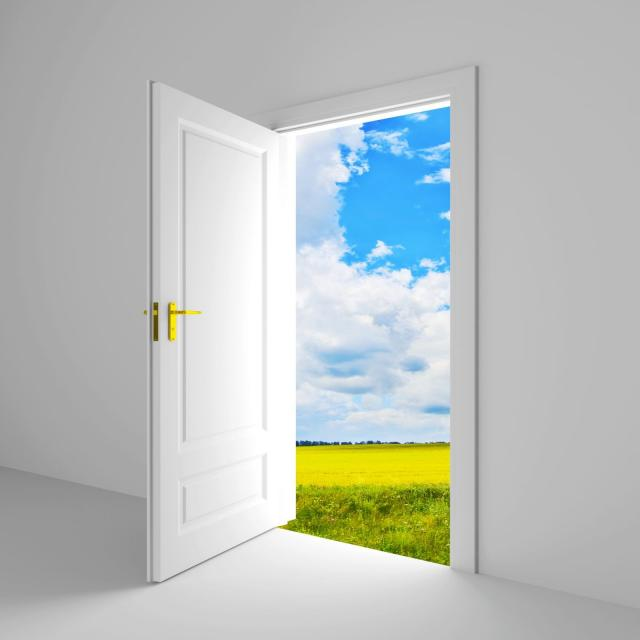open: (154, 88, 482, 594)
